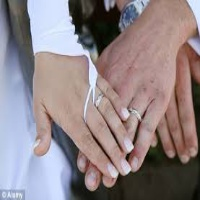ring: (95, 94, 135, 152), (123, 83, 149, 140), (157, 122, 176, 159)
